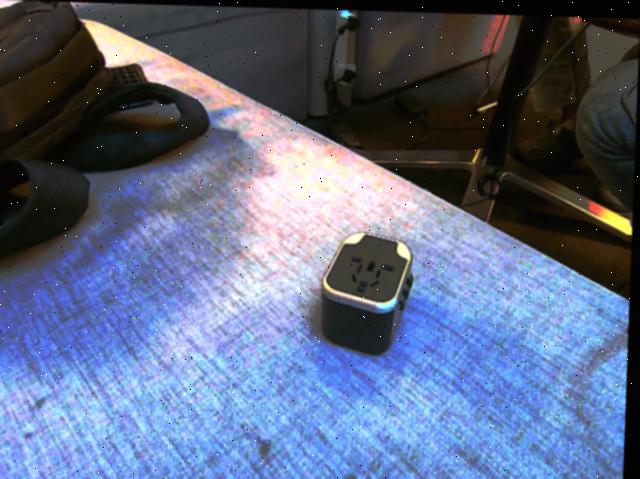adapter: (321, 229, 417, 353)
